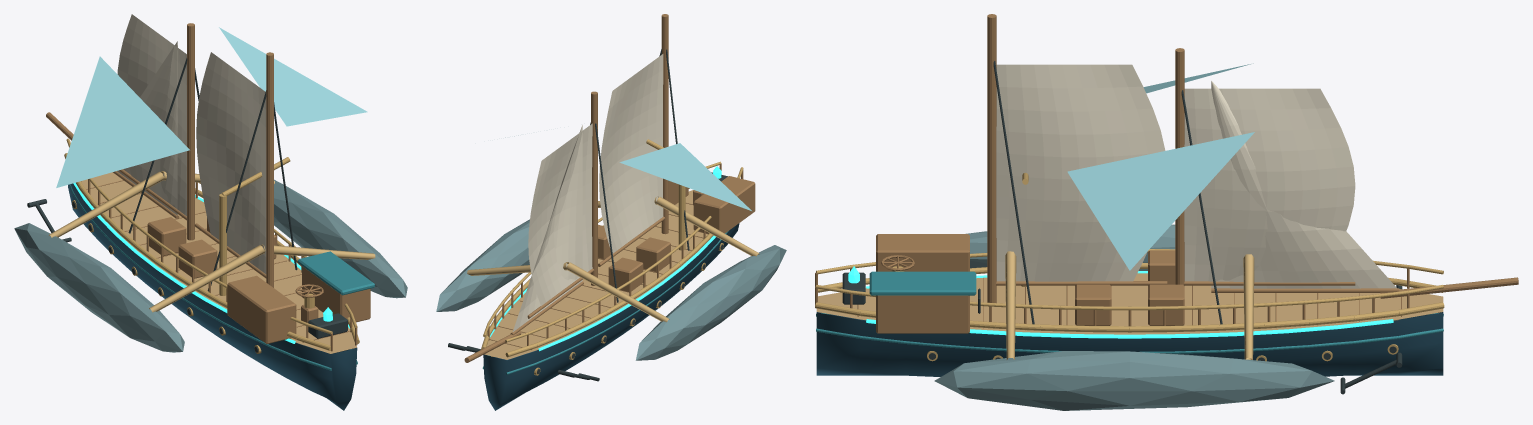
Rendered from premium_salvage_schooner.glb.
3 renders of one model, left to right at view 1: azimuth 30°, elevation 25°; view 2: azimuth 150°, elevation 25°; view 3: azimuth 270°, elevation 25°, orthographic. The views are drawn at different scales.
Visible parts, largest first — view 1: premium_salvage_schooner; view 2: premium_salvage_schooner; view 3: premium_salvage_schooner.
Boxes of the visible parts, x1,y1,x2,y2 form: premium_salvage_schooner: [14, 14, 407, 410]; premium_salvage_schooner: [436, 14, 786, 410]; premium_salvage_schooner: [815, 14, 1518, 410].
Bounding box in the file's own units: 8.2 × 7.6 × 13.47.
